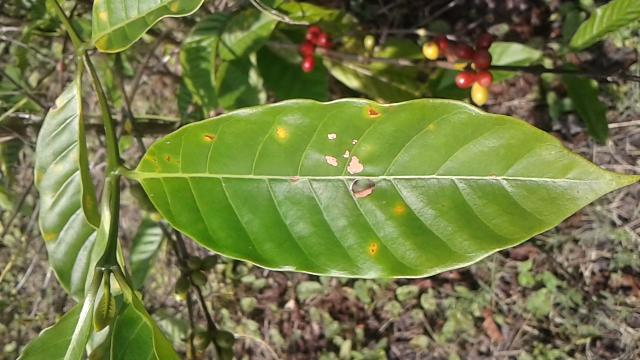red_spider_mite: (132, 93, 640, 284)
